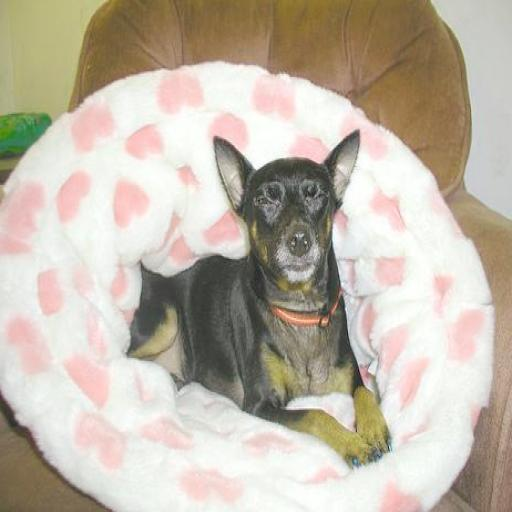dog_face: (209, 129, 366, 293)
